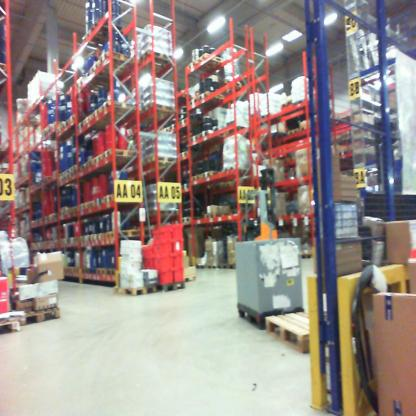forklift: (235, 166, 282, 252)
pallet: (261, 310, 340, 357), (16, 299, 66, 331), (100, 95, 139, 122), (141, 96, 180, 120), (118, 282, 159, 304), (98, 48, 133, 73), (87, 60, 126, 82), (198, 84, 232, 108), (101, 146, 141, 165), (91, 103, 129, 122), (141, 49, 179, 67), (104, 227, 144, 244), (144, 151, 178, 171), (196, 51, 228, 72), (184, 61, 224, 76), (143, 208, 180, 224), (1, 310, 22, 336), (154, 277, 183, 295), (217, 75, 244, 92), (34, 119, 53, 141), (175, 148, 204, 162), (223, 163, 238, 187), (60, 110, 74, 134), (203, 207, 221, 223), (179, 213, 197, 228), (198, 168, 218, 181), (177, 115, 191, 133), (181, 272, 199, 285), (284, 125, 300, 139), (197, 132, 215, 144), (103, 263, 118, 277), (189, 89, 200, 107), (187, 170, 201, 184), (74, 118, 86, 134), (92, 151, 102, 170), (282, 97, 293, 114), (76, 161, 87, 177), (159, 123, 170, 138), (169, 119, 179, 135), (94, 264, 106, 277), (69, 200, 78, 217), (190, 132, 200, 147), (216, 259, 228, 271), (83, 114, 93, 128), (93, 194, 105, 205), (103, 194, 117, 203), (51, 120, 60, 134), (94, 232, 104, 243), (62, 171, 71, 183), (205, 261, 217, 270), (86, 158, 93, 171), (81, 233, 88, 246), (225, 260, 235, 269), (70, 162, 78, 173), (195, 262, 206, 270), (70, 170, 77, 182), (62, 166, 71, 175), (80, 265, 88, 275), (88, 265, 96, 275), (88, 233, 96, 242), (85, 199, 95, 206), (77, 204, 86, 210)
small_load_carrier: (154, 224, 174, 245), (152, 253, 173, 272), (152, 266, 173, 285), (142, 241, 159, 260), (142, 257, 159, 276), (153, 239, 173, 253), (173, 266, 185, 285), (170, 238, 185, 253), (174, 220, 185, 238), (170, 253, 185, 266)
